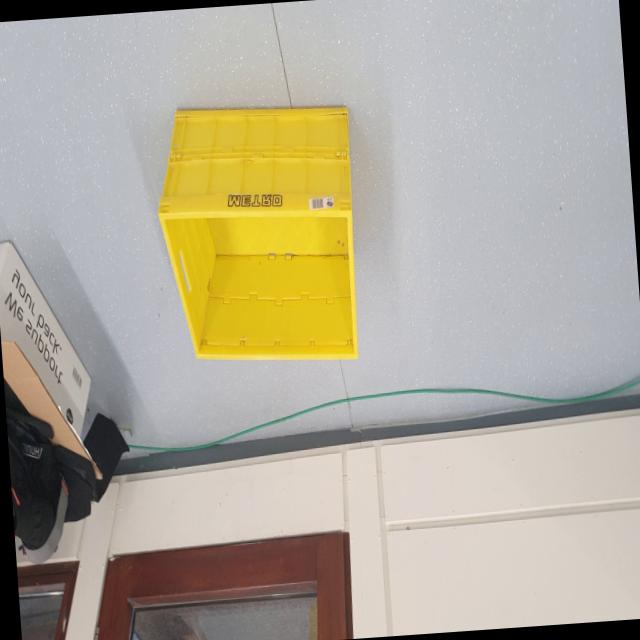box: (142, 92, 375, 384)
